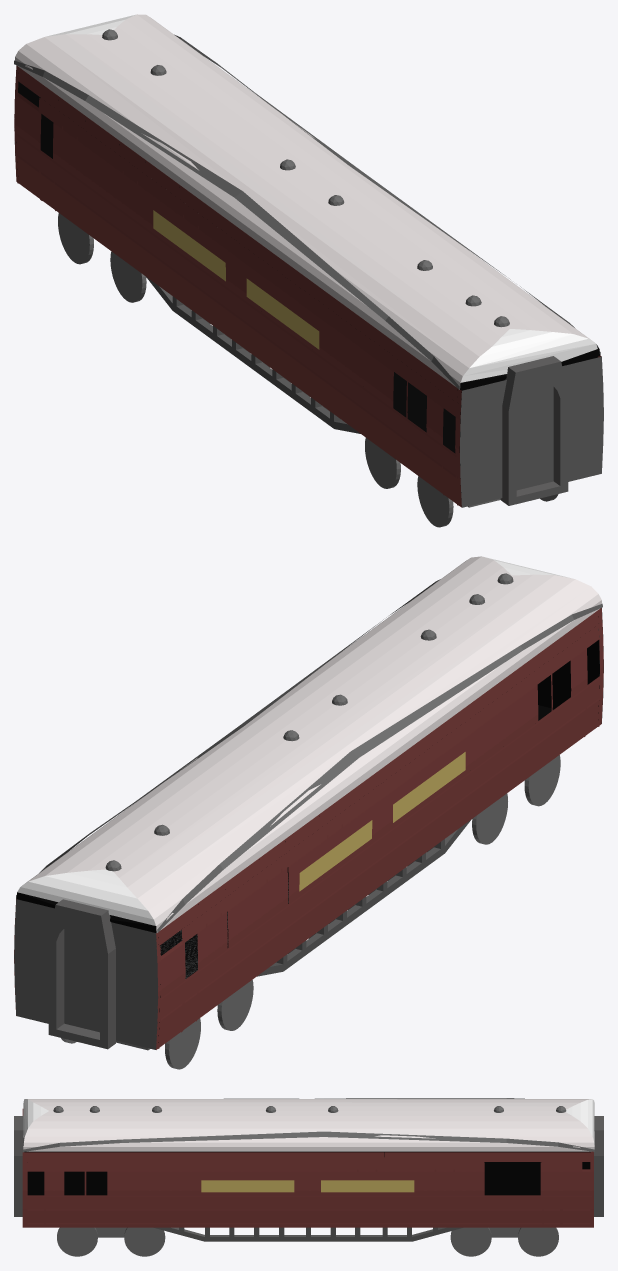
File: lner-gresley-express-tpo-m.dae
3 views of the same model, one above another, from view 1: azimuth 30°, elevation 25°; view 2: azimuth 150°, elevation 25°; view 3: azimuth 270°, elevation 25° (orthographic). The views are drawn at different scales.
Visible parts, largest first — view 1: Suzanne_001, Plane_358, Plane_070, Tube_002, Suzanne_004, Plane_017, Plane_326, Plane_359, Plane_357, Plane_332, Plane_012, Plane_276 (+15 smaller); view 2: Suzanne_001, Plane_358, Plane_001, Tube_004, Suzanne_004, Plane_017, Plane_326, Plane_359, Plane_357, Plane_332, Plane_027, Plane_276 (+14 smaller); view 3: Suzanne_001, Plane_007, Plane_019, Plane_361, Plane, Plane_006, Suzanne_003, Plane_005, Plane_158, Plane_382, Plane_381, Plane_079 (+27 smaller).
Boxes of the visible parts, box(x1,y1,x2,y2) form: Suzanne_001: box(15, 14, 599, 389); Plane_358: box(14, 138, 461, 507); Plane_070: box(460, 356, 603, 507); Tube_002: box(500, 356, 568, 505); Suzanne_004: box(14, 60, 459, 389); Plane_017: box(55, 109, 434, 400); Plane_326: box(176, 213, 393, 407); Plane_359: box(15, 72, 461, 404); Plane_357: box(14, 131, 459, 463); Plane_332: box(179, 185, 441, 382); Plane_012: box(145, 162, 461, 498); Plane_276: box(85, 131, 116, 203); Suzanne_001: box(16, 556, 601, 933); Plane_358: box(156, 681, 603, 1049); Plane_001: box(14, 899, 158, 1049); Tube_004: box(48, 899, 115, 1049); Suzanne_004: box(157, 603, 602, 932); Plane_017: box(197, 641, 576, 931); Plane_326: box(321, 686, 536, 879); Plane_359: box(156, 614, 602, 947); Plane_357: box(157, 673, 603, 1006); Plane_332: box(319, 622, 581, 820); Plane_027: box(537, 616, 599, 719); Plane_276: box(227, 874, 258, 945); Suzanne_001: box(23, 1099, 594, 1151); Plane_007: box(22, 1200, 593, 1227); Plane_019: box(24, 1151, 590, 1195); Plane_361: box(109, 1171, 328, 1195); Plane: box(64, 1162, 472, 1171); Plane_006: box(22, 1157, 593, 1161); Suzanne_003: box(23, 1131, 594, 1151); Plane_005: box(22, 1195, 593, 1199); Plane_158: box(50, 1152, 383, 1157); Plane_382: box(321, 1180, 414, 1192); Plane_381: box(201, 1180, 294, 1192); Plane_079: box(26, 1195, 591, 1196).
Bounding box in the file's own units: 2.09 × 11.39 × 2.82.
